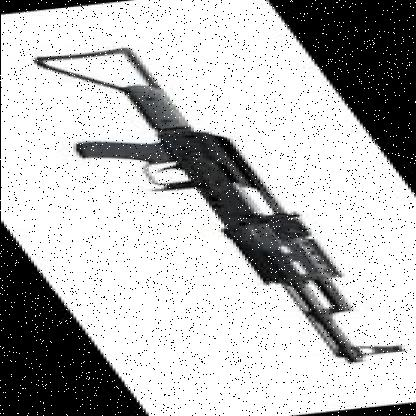rifle: (0, 26, 410, 374)
